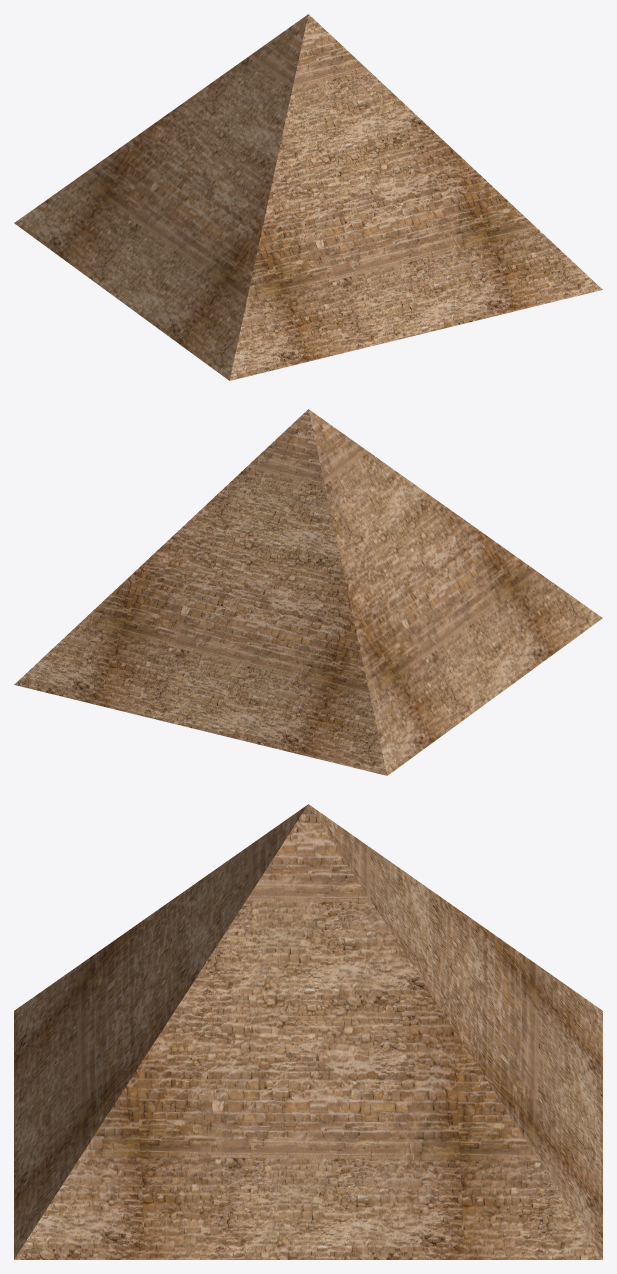
3 views of the same model, one above another, from view 1: azimuth 30°, elevation 25°; view 2: azimuth 150°, elevation 25°; view 3: azimuth 270°, elevation 25° (orthographic). The views are drawn at different scales.
Parts seen in each view (by area): view 1: pCube1; view 2: pCube1; view 3: pCube1.
Part boxes in pixels (bbox=[...]): pCube1: bbox=[14, 14, 602, 380]; pCube1: bbox=[14, 409, 602, 775]; pCube1: bbox=[14, 804, 602, 1259].
Size of the model in its own units: 12.34 by 7.66 by 12.34.
Materials: 1 (1 with a texture image).
